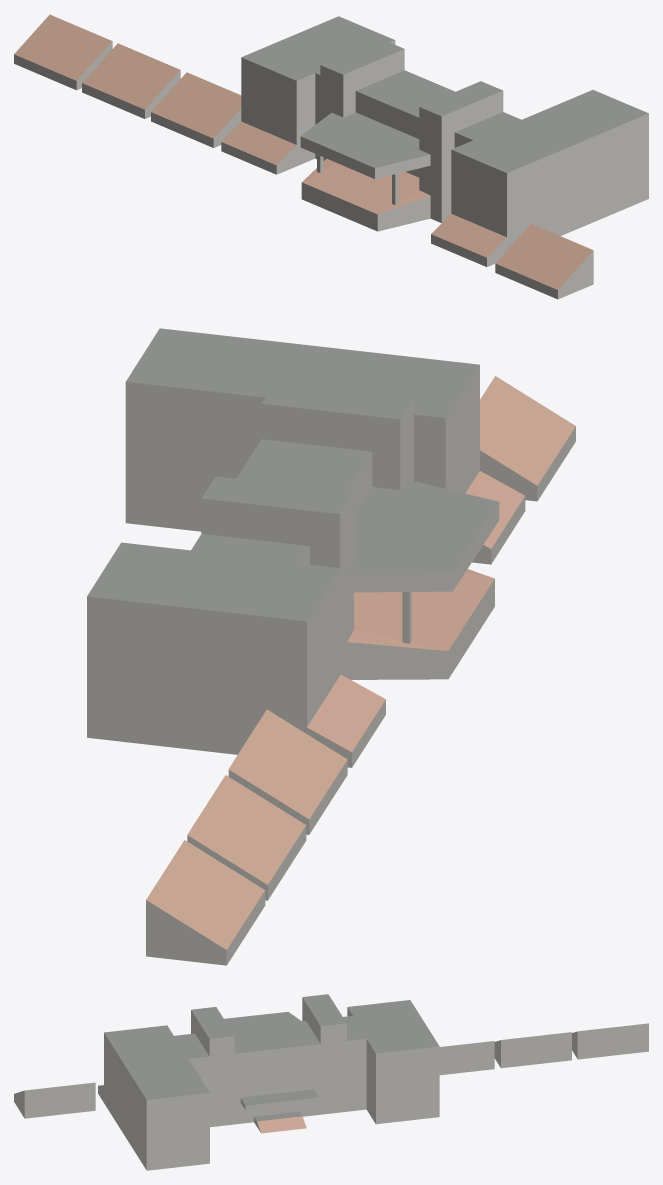
File: gridID_81.dae
The picture shows the model from 3 angles, top to bottom: view 1: azimuth 30°, elevation 25°; view 2: azimuth 150°, elevation 25°; view 3: azimuth 270°, elevation 25°; orthographic projection. The views are drawn at different scales.
Visible parts, largest first — view 1: model_gridID_81_w116950296_001, model_gridID_81_w375219025_001, model_gridID_81_w375220467_001, model_gridID_81_w375220469_001, model_gridID_81_w116950296, model_gridID_81_w116950296_003, model_gridID_81_w116950296_002; view 2: model_gridID_81_w116950296_001, model_gridID_81_w375220469_001, model_gridID_81_w116950296, model_gridID_81_w375220467_001, model_gridID_81_w375219025_001, model_gridID_81_w116950296_003, model_gridID_81_w116950296_002; view 3: model_gridID_81_w116950296_001, model_gridID_81_w375219025_001, model_gridID_81_w375220467_001, model_gridID_81_w375220469_001, model_gridID_81_w116950296.
Boxes of the visible parts, x1,y1,x2,y2 form: model_gridID_81_w116950296_001: [241, 16, 648, 249]; model_gridID_81_w375219025_001: [495, 223, 593, 299]; model_gridID_81_w375220467_001: [82, 43, 180, 118]; model_gridID_81_w375220469_001: [14, 14, 112, 90]; model_gridID_81_w116950296: [151, 72, 241, 147]; model_gridID_81_w116950296_003: [221, 121, 296, 174]; model_gridID_81_w116950296_002: [431, 213, 506, 266]; model_gridID_81_w116950296_001: [87, 328, 499, 754]; model_gridID_81_w375220469_001: [146, 840, 265, 965]; model_gridID_81_w116950296: [228, 709, 347, 834]; model_gridID_81_w375220467_001: [187, 775, 306, 900]; model_gridID_81_w375219025_001: [480, 376, 575, 501]; model_gridID_81_w116950296_003: [307, 674, 385, 767]; model_gridID_81_w116950296_002: [465, 471, 525, 564]; model_gridID_81_w116950296_001: [104, 994, 439, 1170]; model_gridID_81_w375219025_001: [14, 1082, 95, 1118]; model_gridID_81_w375220467_001: [494, 1032, 571, 1068]; model_gridID_81_w375220469_001: [572, 1023, 648, 1059]; model_gridID_81_w116950296: [439, 1041, 494, 1075].
Bounding box in the file's own units: 41.34 × 81.42 × 12.5.
